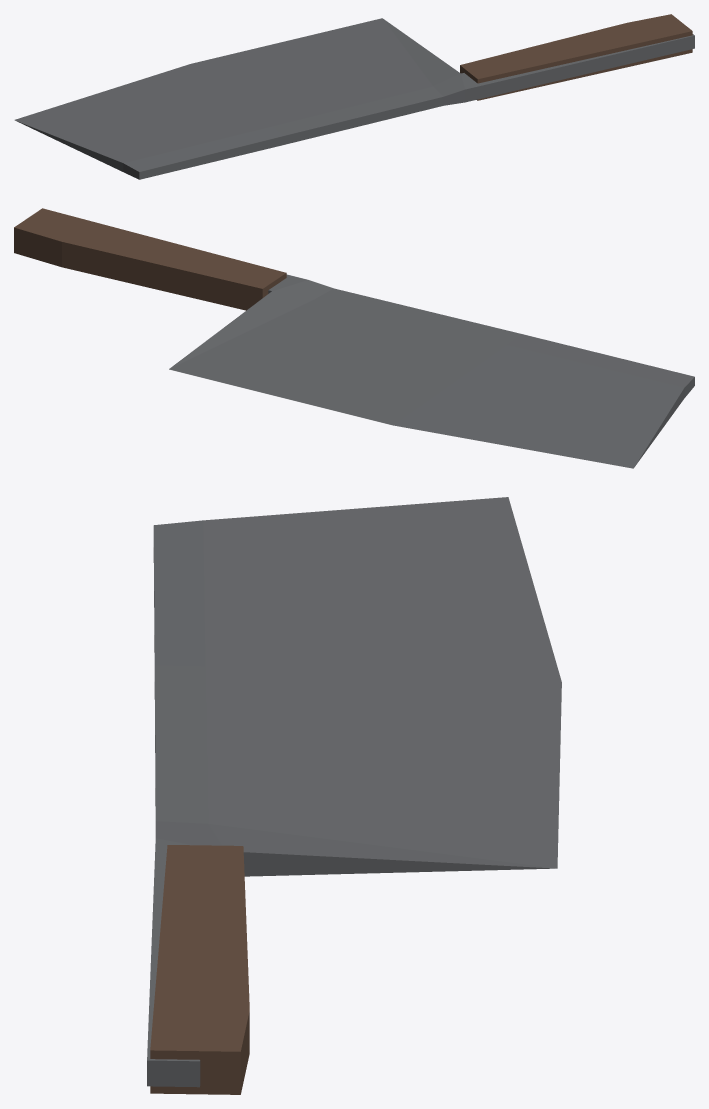
The model's file is cleaver.fbx.
3 renders of one model, top to bottom at view 1: azimuth 30°, elevation 25°; view 2: azimuth 150°, elevation 25°; view 3: azimuth 270°, elevation 25°, orthographic. The views are drawn at different scales.
Parts seen in each view (by area): view 1: cleaver; view 2: cleaver; view 3: cleaver.
Part boxes in pixels (box(x1,y1,x2,y2)): cleaver: box(14, 14, 694, 179); cleaver: box(14, 208, 694, 468); cleaver: box(147, 497, 561, 1094).
Bounding box in the file's own units: 56.71 × 1.98 × 17.23.
Materials: 1 (1 with a texture image).
